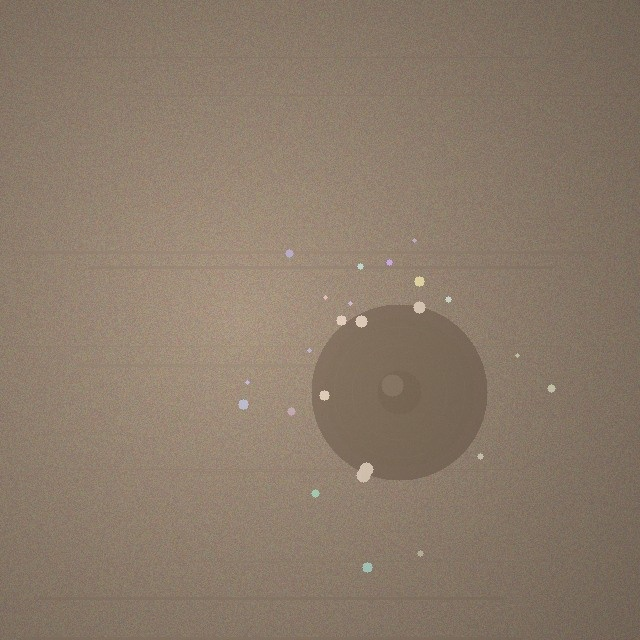overburn: (311, 304, 487, 480)
